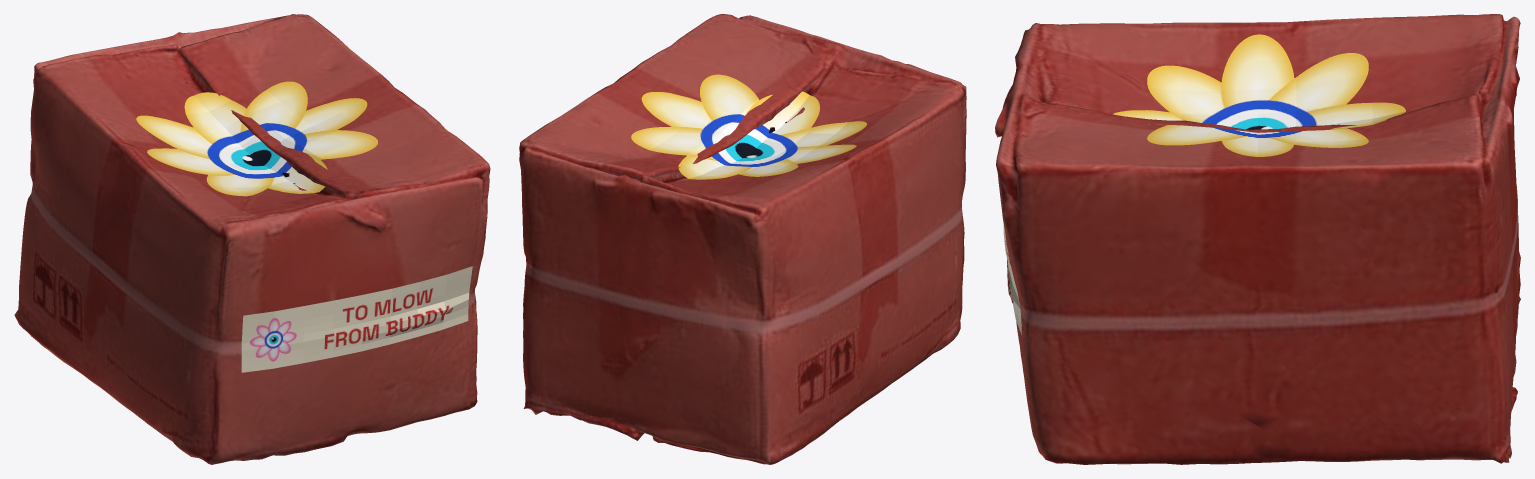
File: nyb_rink_gift_a.glb
3 views of the same model, side by side, from view 1: azimuth 30°, elevation 25°; view 2: azimuth 150°, elevation 25°; view 3: azimuth 270°, elevation 25° (orthographic). The views are drawn at different scales.
Visible parts, largest first — view 1: cardboard_box_01, stk_eyeflower_gold.png, stk_lbl_c97d0b06cf.png; view 2: cardboard_box_01, stk_eyeflower_gold.png; view 3: cardboard_box_01, stk_eyeflower_gold.png, stk_lbl_c97d0b06cf.png.
Part boxes in pixels (box(x1,y1,x2,y2)): cardboard_box_01: box(14, 14, 490, 464); stk_eyeflower_gold.png: box(136, 81, 377, 196); stk_lbl_c97d0b06cf.png: box(241, 266, 472, 372); cardboard_box_01: box(519, 14, 966, 464); stk_eyeflower_gold.png: box(631, 74, 866, 179); cardboard_box_01: box(995, 14, 1520, 464); stk_eyeflower_gold.png: box(1113, 34, 1405, 156); stk_lbl_c97d0b06cf.png: box(1003, 224, 1021, 335).
Size of the model in its own units: 0.3871 by 0.3418 by 0.5159.
3 materials, 3 textured.
